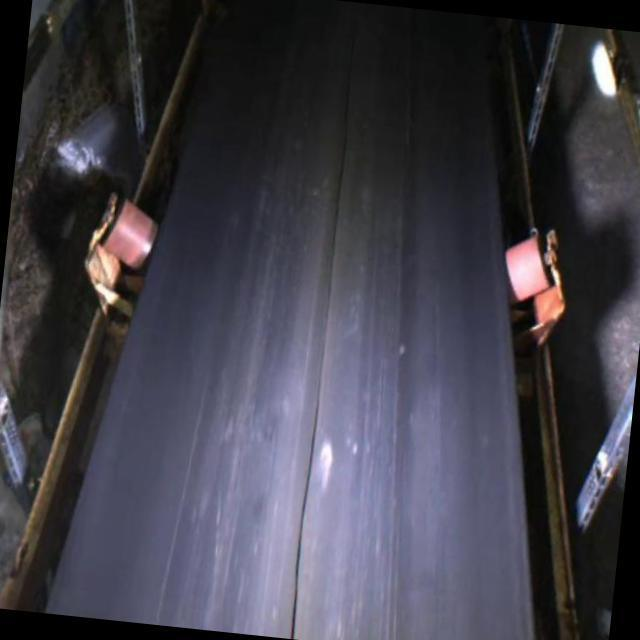Tear: (285, 0, 368, 640)
